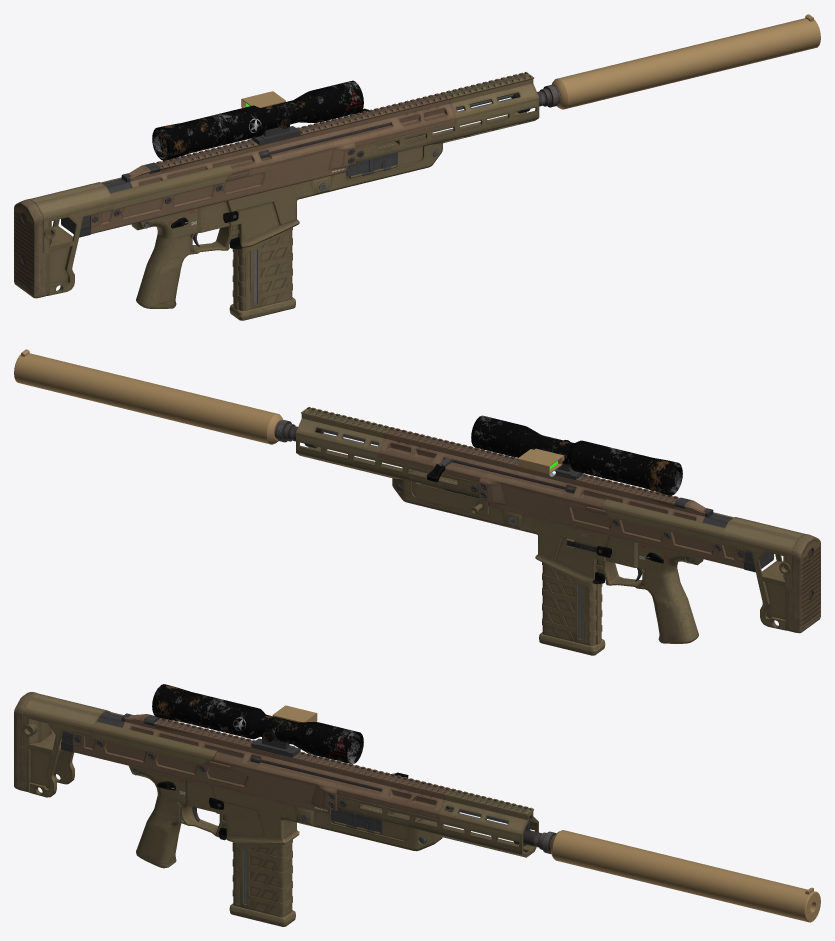
File: weapon.glb
3 renders of one model, top to bottom at view 1: azimuth 30°, elevation 25°; view 2: azimuth 150°, elevation 25°; view 3: azimuth 330°, elevation 25°, orthographic.
Visible parts, largest first — view 1: textron_ngsw_textron_ngsw_01_0, textron_ngsw_textron_ngsw_02_0, pCylinder2, polySurface8; view 2: textron_ngsw_textron_ngsw_01_0, textron_ngsw_textron_ngsw_02_0, pCylinder2, polySurface8; view 3: textron_ngsw_textron_ngsw_01_0, textron_ngsw_textron_ngsw_02_0, pCylinder2, polySurface8.
Part boxes in pixels (box(x1,y1,x2,y2)): textron_ngsw_textron_ngsw_01_0: box(14, 72, 539, 298); textron_ngsw_textron_ngsw_02_0: box(131, 85, 560, 320); pCylinder2: box(551, 14, 820, 109); polySurface8: box(152, 80, 363, 160); textron_ngsw_textron_ngsw_01_0: box(296, 407, 820, 633); textron_ngsw_textron_ngsw_02_0: box(274, 420, 703, 655); pCylinder2: box(14, 349, 283, 444); polySurface8: box(471, 415, 682, 495); textron_ngsw_textron_ngsw_01_0: box(14, 692, 538, 857); textron_ngsw_textron_ngsw_02_0: box(129, 754, 556, 926); pCylinder2: box(550, 830, 820, 922); polySurface8: box(152, 684, 363, 764).
Bounding box in the file's own units: 0.4151 × 0.1039 × 0.0305.
Materials: 8 (3 with a texture image).
